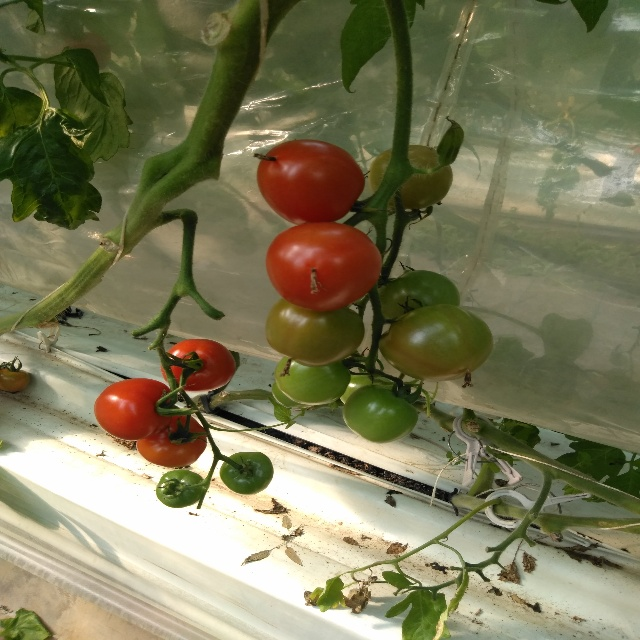l_fully_ripened: (265, 222, 382, 312), (257, 139, 365, 225), (94, 378, 174, 441), (161, 339, 237, 392)
l_green: (379, 304, 495, 383), (342, 385, 418, 443), (376, 270, 461, 321), (274, 355, 351, 405), (220, 452, 274, 495), (156, 469, 205, 508), (339, 372, 394, 403), (271, 380, 316, 408)
l_half_ripened: (265, 297, 365, 367), (369, 144, 453, 210), (136, 408, 207, 467)
